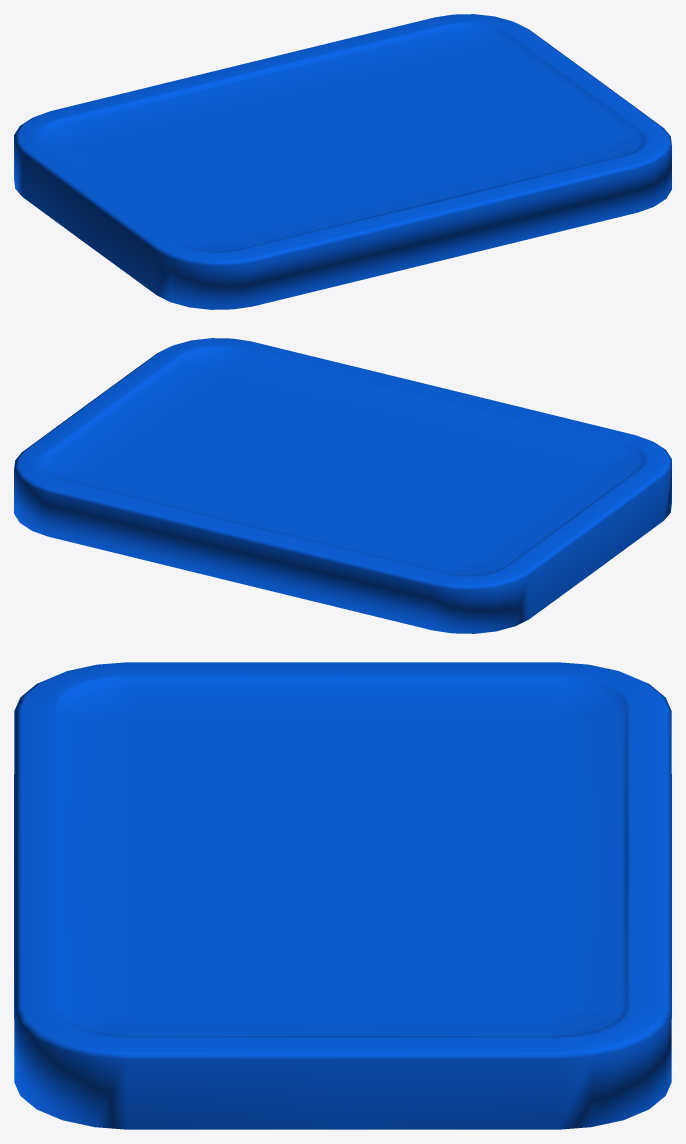
Rendered from Tarot_Card_B_Board.fbx.
3 renders of one model, top to bottom at view 1: azimuth 30°, elevation 25°; view 2: azimuth 150°, elevation 25°; view 3: azimuth 270°, elevation 25°, orthographic. The views are drawn at different scales.
Parts seen in each view (by area): view 1: Tarot_Card_B_Board; view 2: Tarot_Card_B_Board; view 3: Tarot_Card_B_Board.
Part boxes in pixels (x1,y1,x2,y2): Tarot_Card_B_Board: (14, 14, 671, 309); Tarot_Card_B_Board: (14, 338, 671, 633); Tarot_Card_B_Board: (14, 662, 671, 1129).
Size of the model in its own units: 22.4 by 1.98 by 15.73.
